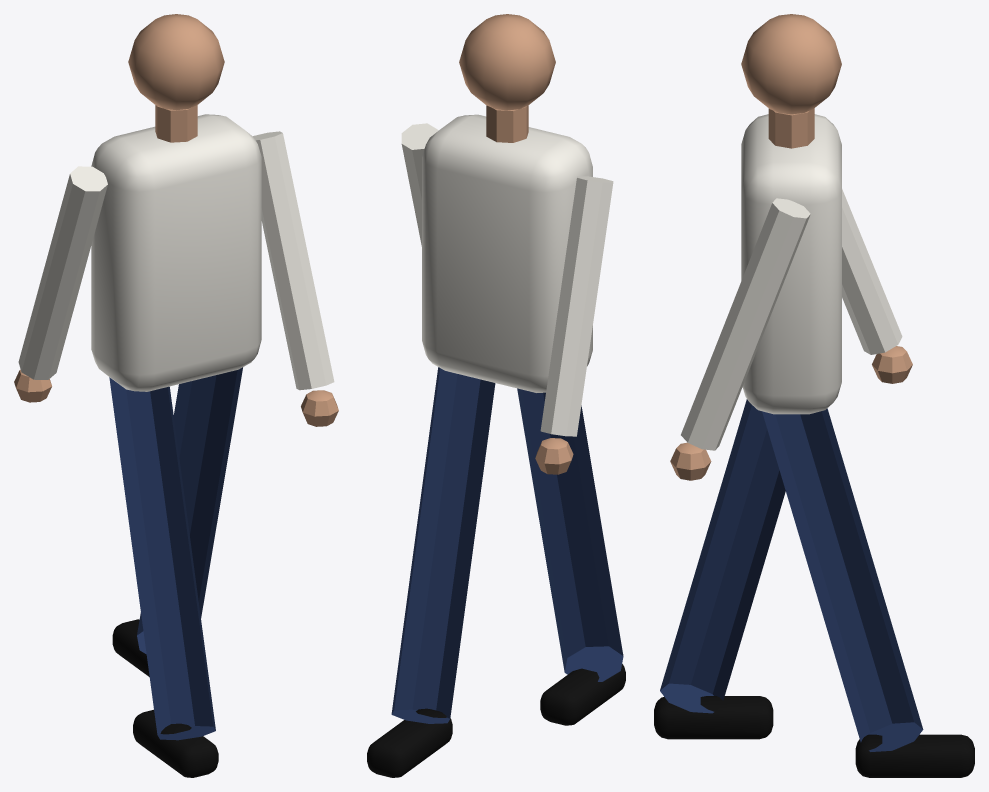
The model's file is people.public.woman_walking.glb.
3 renders of one model, left to right at view 1: azimuth 30°, elevation 25°; view 2: azimuth 150°, elevation 25°; view 3: azimuth 270°, elevation 25°, orthographic. The views are drawn at different scales.
Parts seen in each view (by area): view 1: main__fabric_white, main__denim, main__skin, main__plastic_black; view 2: main__fabric_white, main__denim, main__skin, main__plastic_black; view 3: main__denim, main__fabric_white, main__skin, main__plastic_black.
Boxes of the visible parts, left/top/right/bottom form: main__fabric_white: left=18, top=114, right=334, bottom=391; main__denim: left=109, top=367, right=242, bottom=740; main__skin: left=14, top=14, right=338, bottom=426; main__plastic_black: left=112, top=619, right=218, bottom=777; main__fabric_white: left=401, top=114, right=613, bottom=436; main__denim: left=391, top=367, right=623, bottom=723; main__skin: left=459, top=14, right=573, bottom=474; main__plastic_black: left=367, top=664, right=625, bottom=777; main__denim: left=660, top=399, right=923, bottom=751; main__fabric_white: left=681, top=114, right=902, bottom=450; main__skin: left=670, top=14, right=912, bottom=480; main__plastic_black: left=654, top=696, right=974, bottom=777.
Bounding box in the file's own units: 0.5495 × 1.65 × 0.652.
